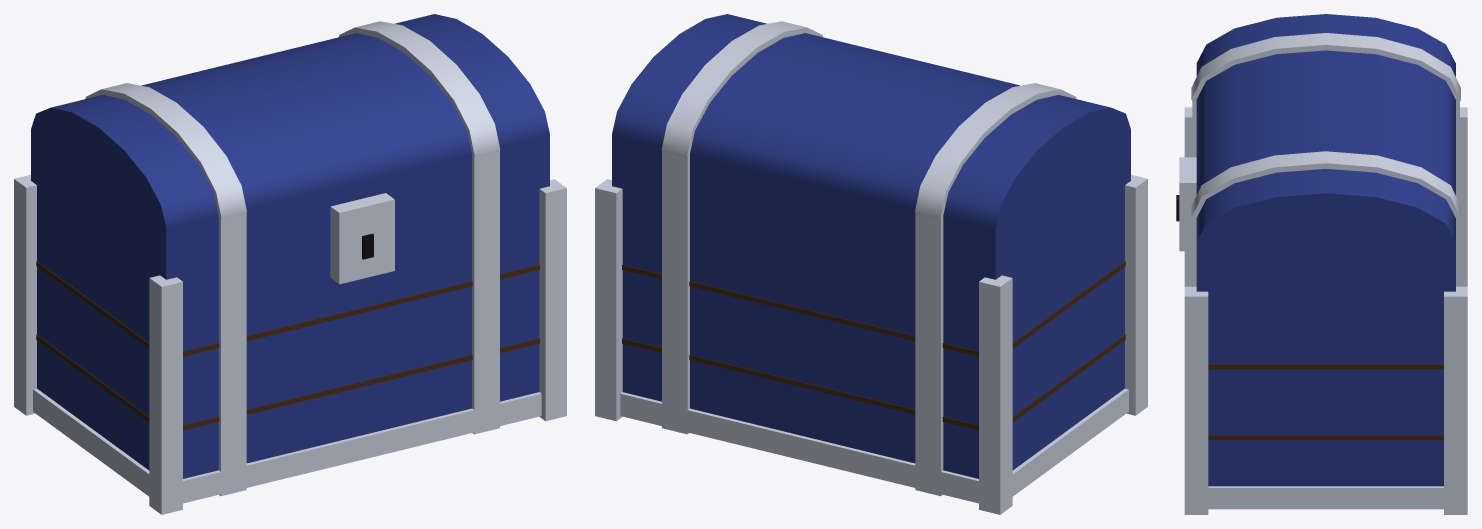
The model's file is ChestRare.obj.
3 renders of one model, left to right at view 1: azimuth 30°, elevation 25°; view 2: azimuth 150°, elevation 25°; view 3: azimuth 270°, elevation 25°, orthographic. The views are drawn at different scales.
Parts seen in each view (by area): view 1: Body, LidTop, Bands, LidBase, LidBands, Planks, Lock; view 2: Body, LidTop, Bands, LidBase, LidBands, Planks; view 3: LidTop, Body, Bands, LidBase, LidBands, Planks, Lock.
Boxes of the visible parts, <box> form: Body: <box>37,188,539,478</box>; LidTop: <box>31,14,549,240</box>; Bands: <box>14,174,566,514</box>; LidBase: <box>31,130,549,279</box>; LidBands: <box>85,21,500,270</box>; Planks: <box>36,261,539,430</box>; Lock: <box>330,193,394,284</box>; Body: <box>622,188,1124,478</box>; LidTop: <box>612,14,1130,239</box>; Bands: <box>595,174,1147,514</box>; LidBase: <box>612,130,1130,279</box>; LidBands: <box>661,21,1076,270</box>; Planks: <box>622,261,1125,430</box>; LidTop: <box>1196,14,1455,290</box>; Body: <box>1208,294,1443,486</box>; Bands: <box>1184,107,1467,514</box>; LidBase: <box>1196,242,1455,293</box>; LidBands: <box>1191,33,1460,269</box>; Planks: <box>1208,364,1443,439</box>; Lock: <box>1179,157,1196,251</box>.
Size of the model in its own units: 1.04 by 0.8295 by 0.6795.
